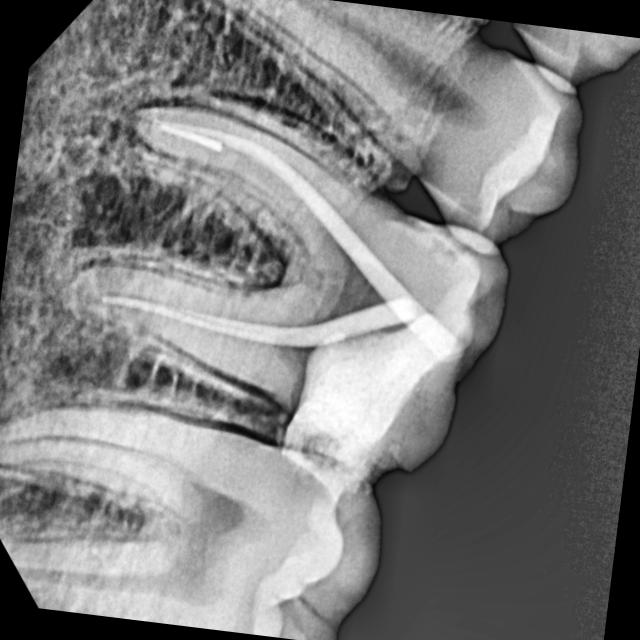RCT: (47, 61, 523, 493)
Restoration: (288, 198, 517, 502)
